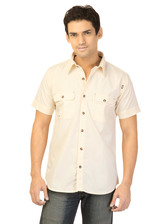clothoes: (26, 51, 138, 197)
